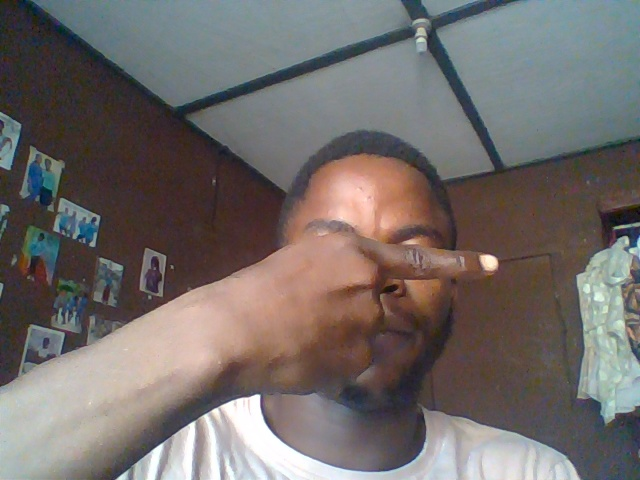Left: (211, 234, 503, 390)
